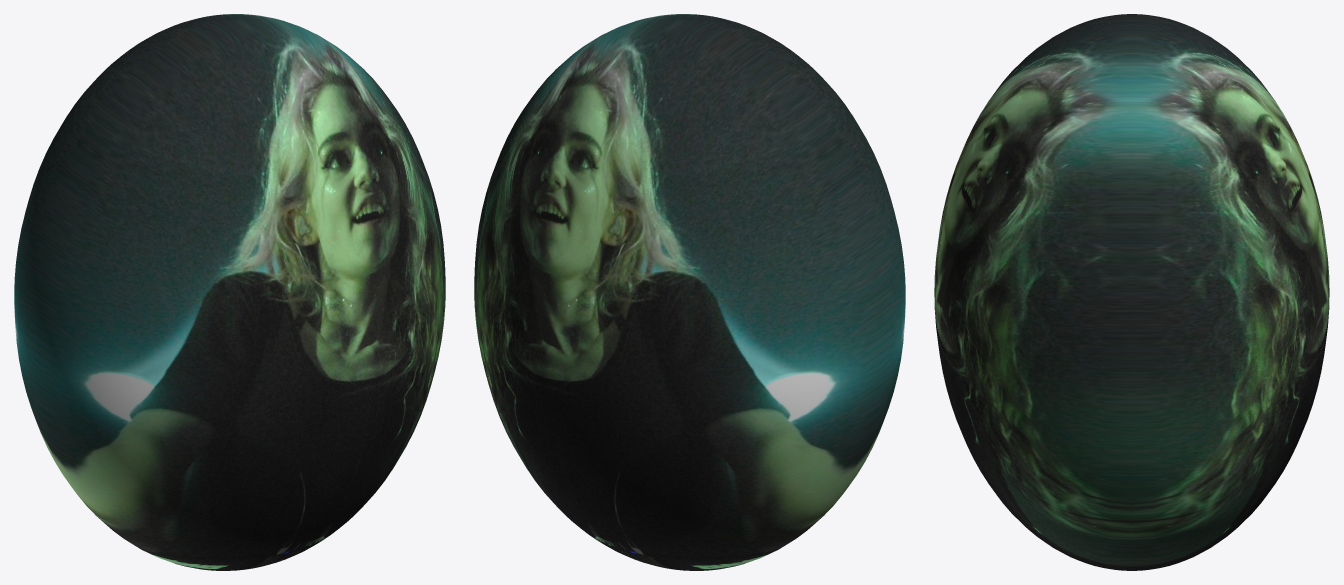
The picture shows the model from 3 angles, left to right: view 1: azimuth 30°, elevation 25°; view 2: azimuth 150°, elevation 25°; view 3: azimuth 270°, elevation 25°; orthographic projection.
Visible parts, largest first — view 1: head; view 2: head; view 3: head.
Boxes of the visible parts, x1=… form: head: x1=14, y1=14, x2=445, y2=570; head: x1=474, y1=14, x2=905, y2=570; head: x1=934, y1=14, x2=1329, y2=570.
Size of the model in its own units: 1.52 by 2 by 1.36.
1 material, 1 textured.
